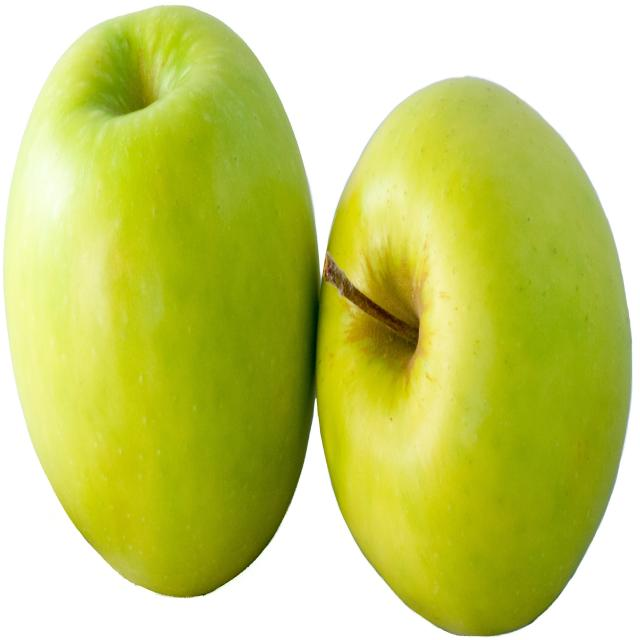Apple: (3, 4, 321, 594), (311, 73, 629, 640)
